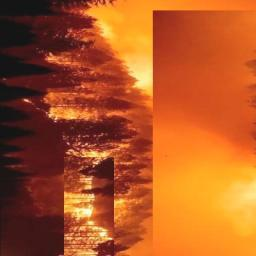Large fire: (0, 0, 155, 256), (155, 11, 256, 256), (65, 157, 117, 256)
